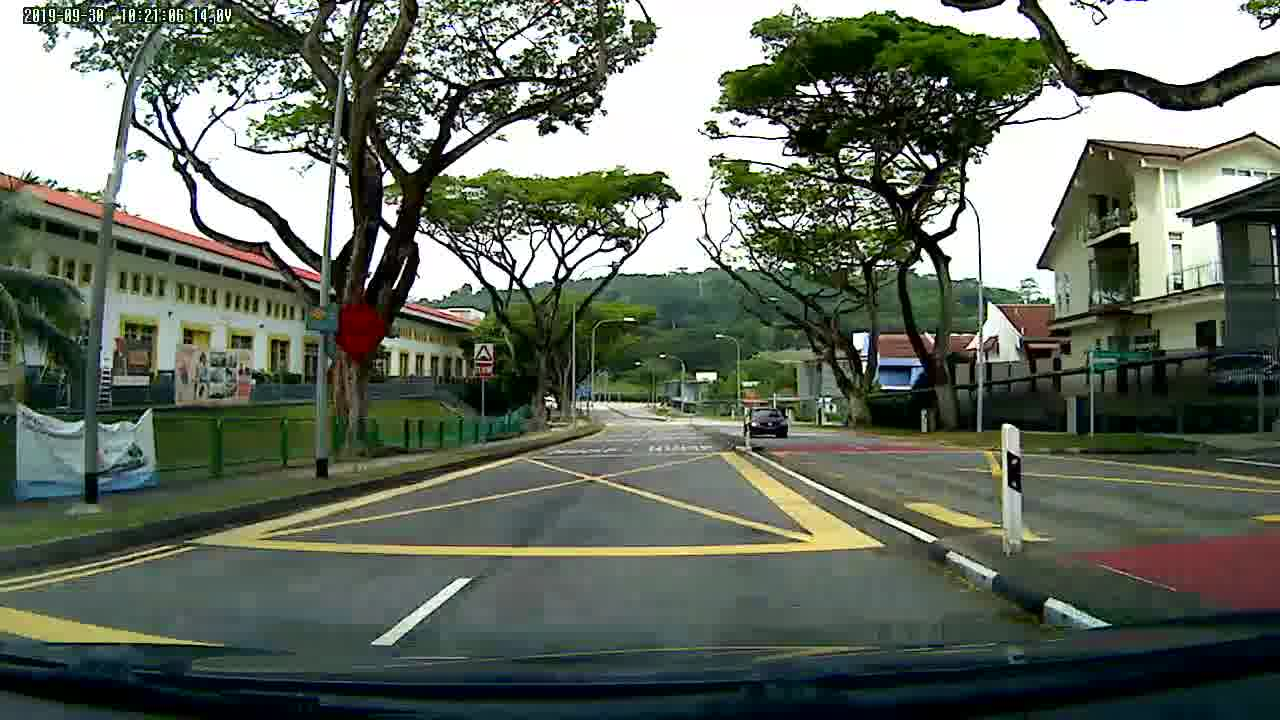car: (739, 405, 791, 436)
